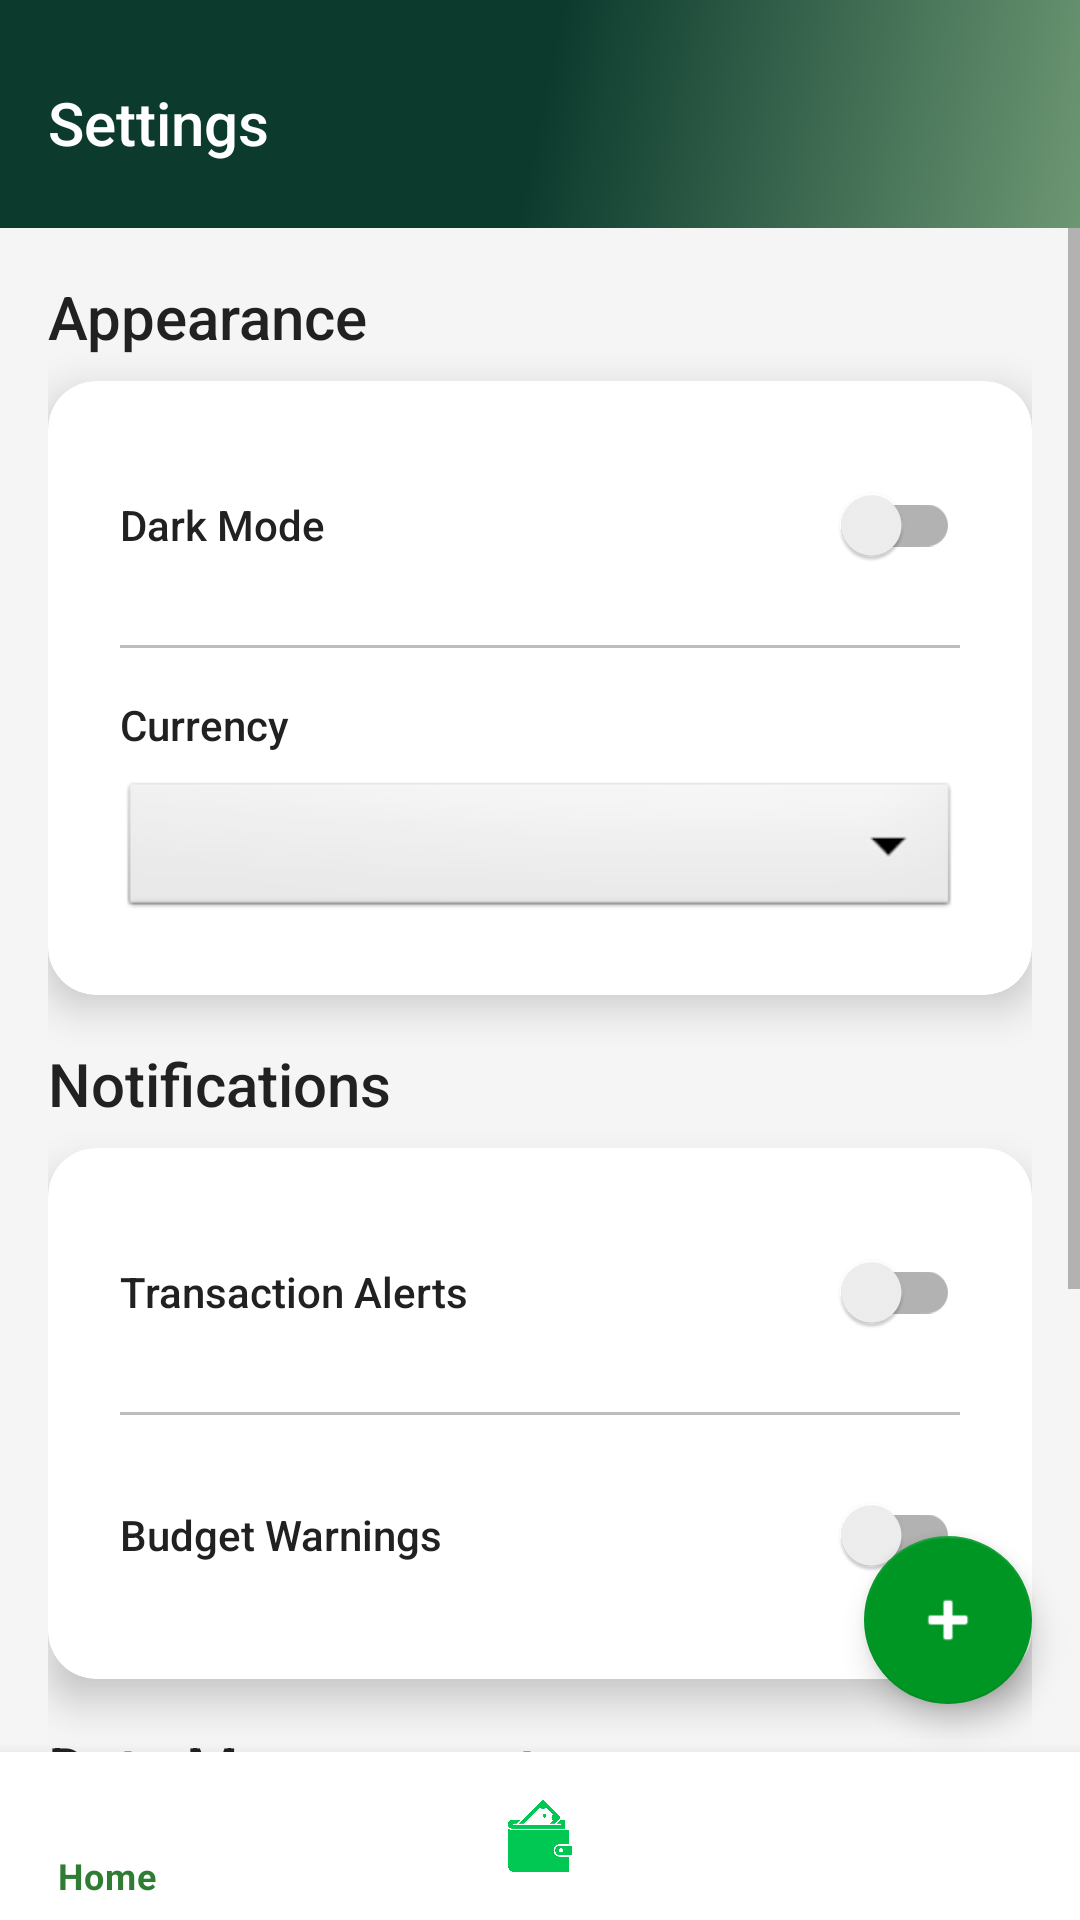

Named icons in this screenshot (1080px×1920px) and their centers, (x=x, y=y):
Add Transaction: (x=948, y=1620)
